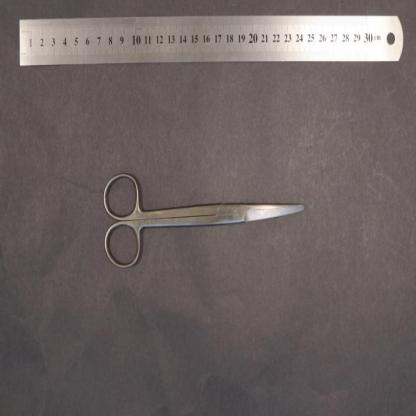Curved Mayo Scissors: (102, 170, 304, 270)
